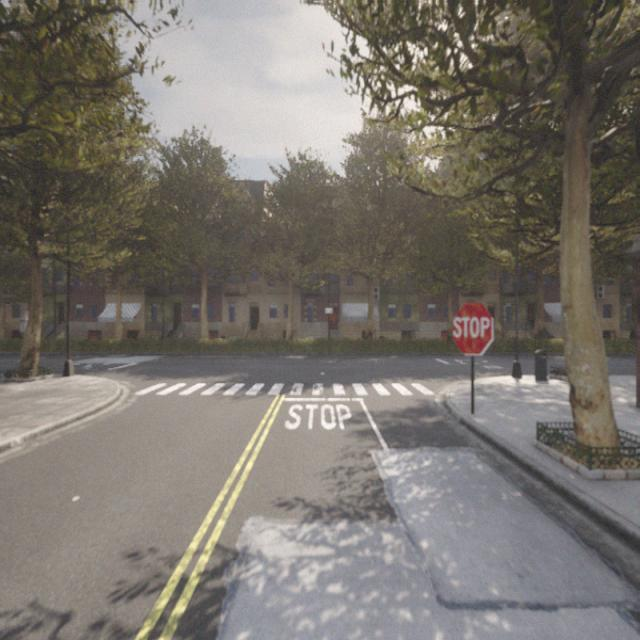stop sign: (449, 299, 496, 357), (451, 314, 491, 340)
